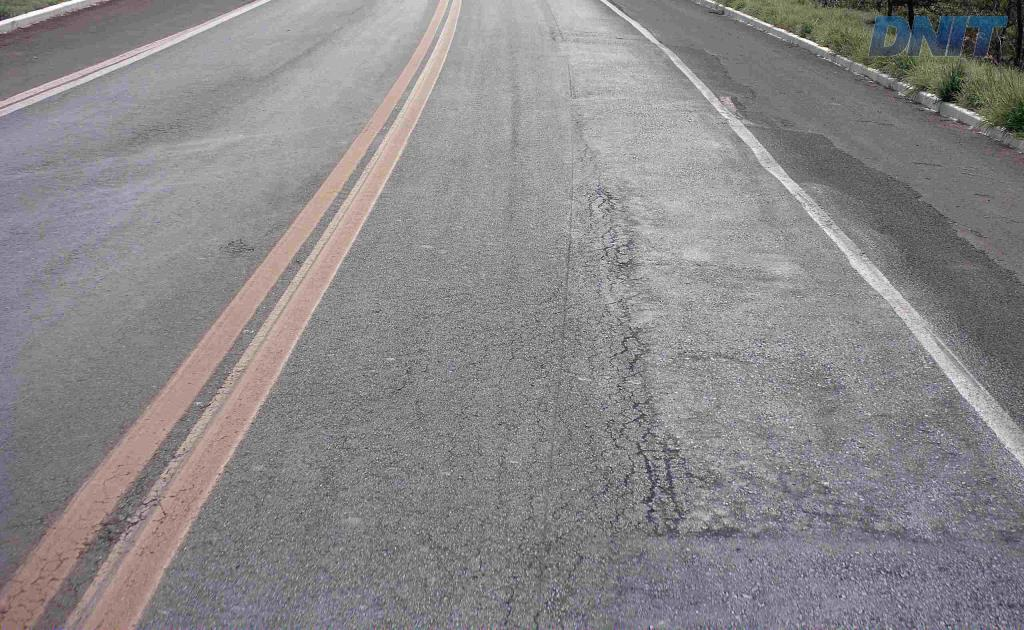crack: (635, 441, 706, 538)
